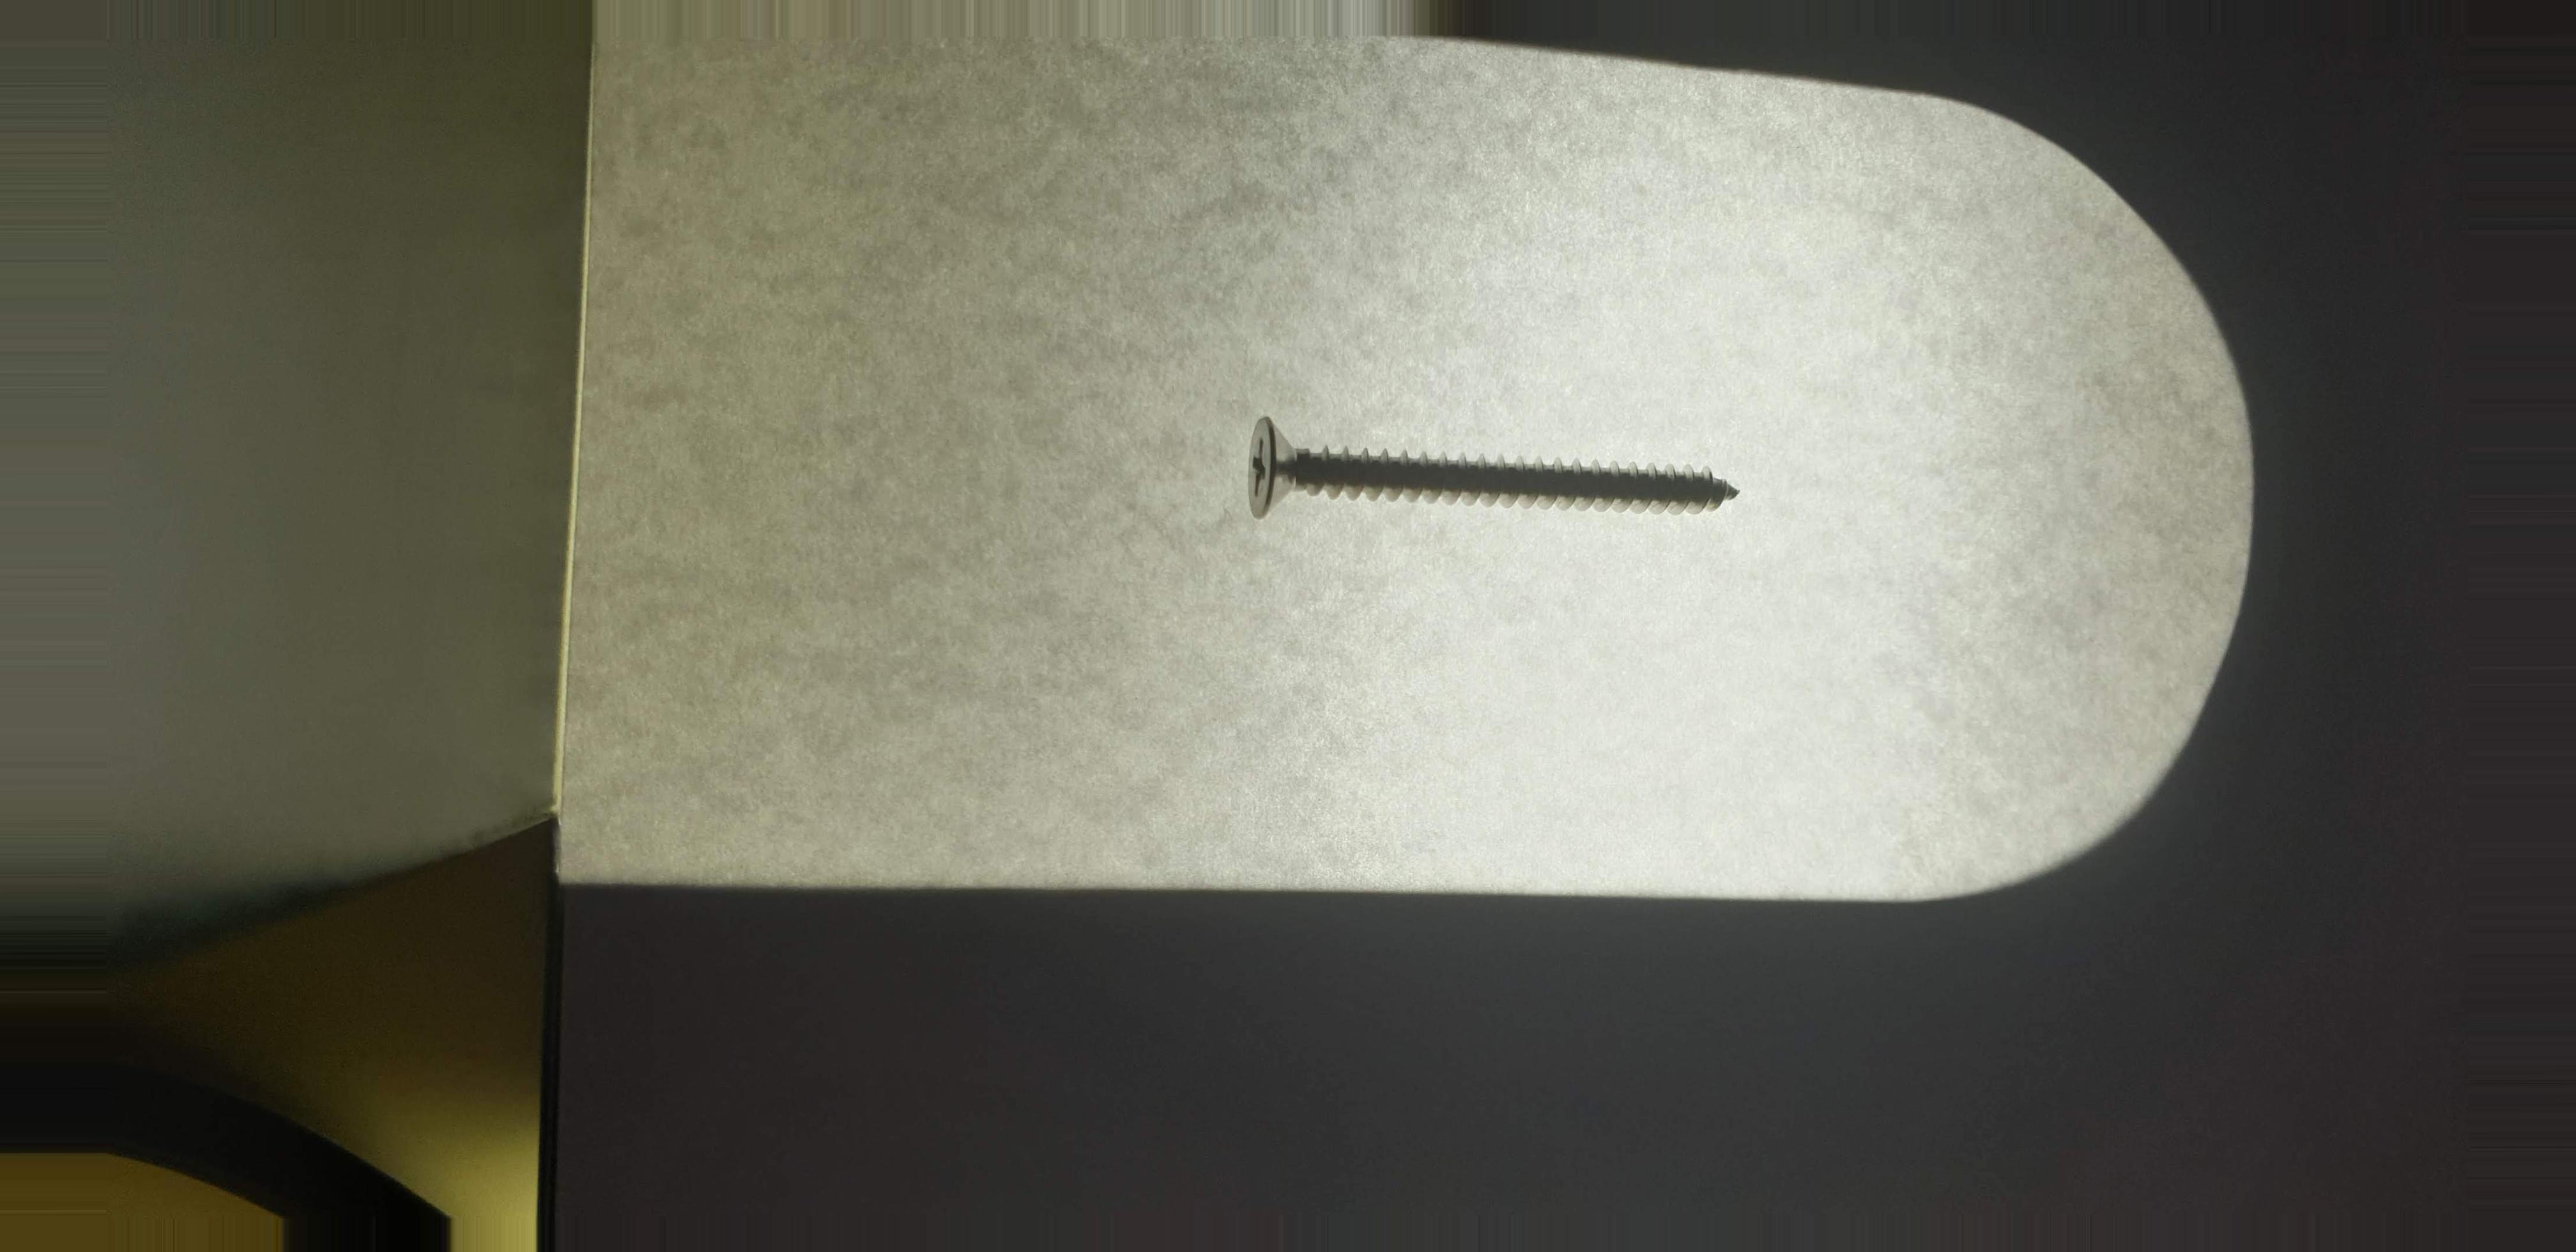S001: (1219, 361, 1796, 585)
